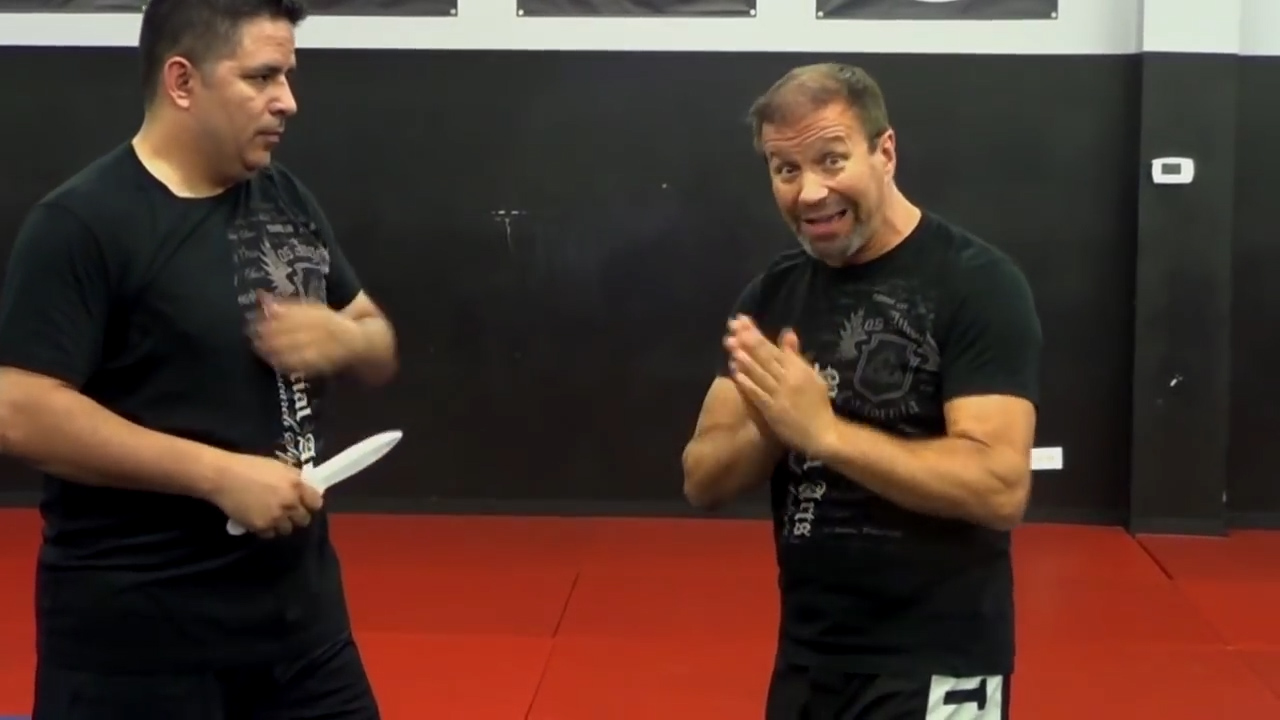knife: (217, 420, 411, 541)
